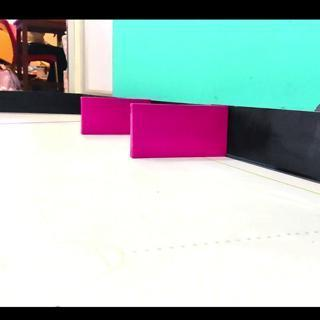xparking: (134, 106, 225, 158), (84, 100, 130, 134)
